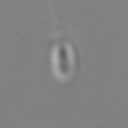normal: (46, 1, 76, 42)
